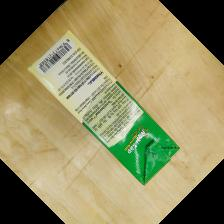NSPN_Hop: (26, 29, 182, 187)
